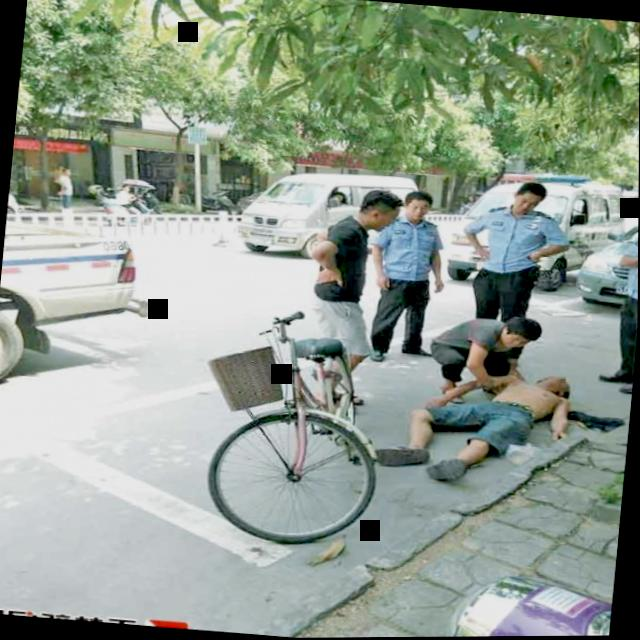Fall-Detected: (349, 346, 597, 501)
